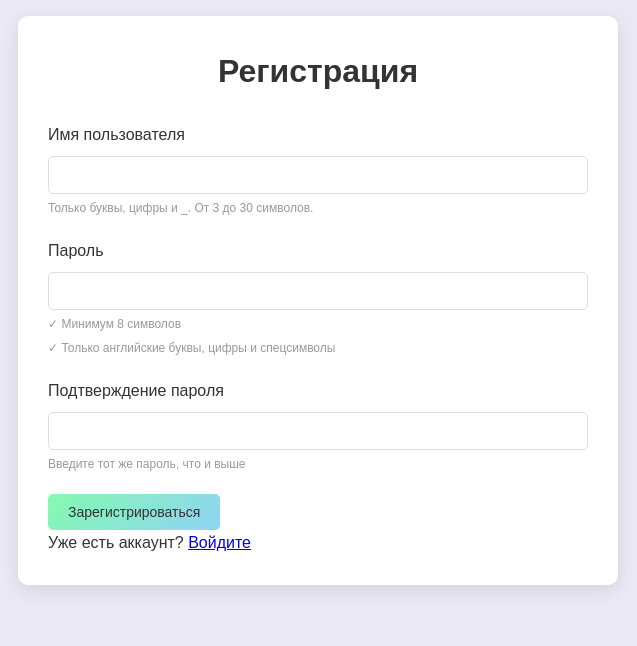
Test: RegisterPage › показывает ошибку при несовпадающих паролях
The width and height of the screenshot is (637, 646).
Type "testuser" into the field with test id "username-input" at (318, 175), box [48, 156, 588, 194]
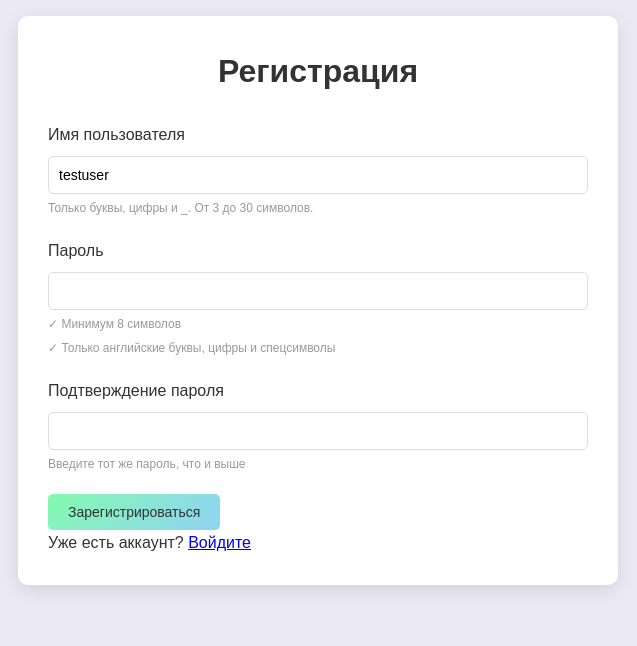
Type "Test123!" into the password field with test id "password1-input" at (318, 291), box [48, 272, 588, 310]
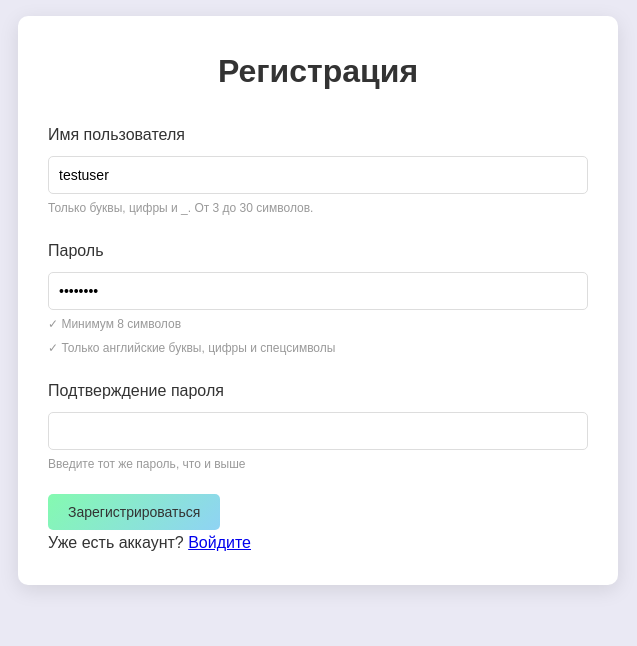
Type "Test456!" into the password field with test id "password2-input" at (318, 430), box [48, 412, 588, 450]
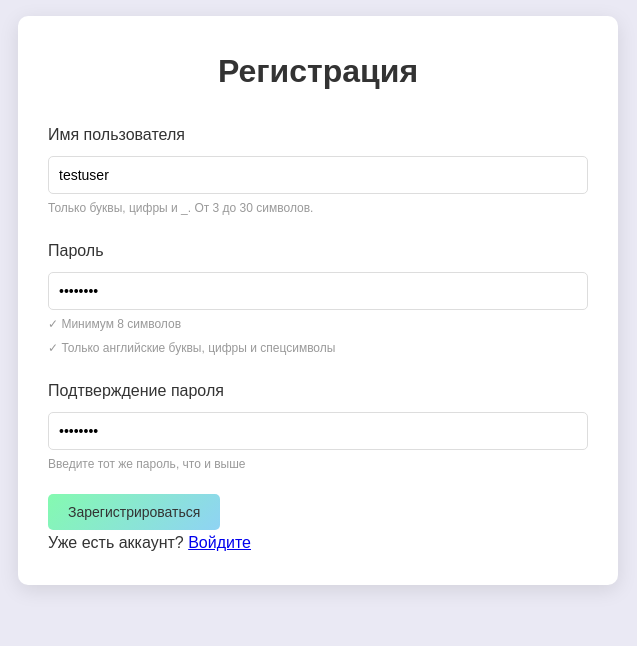
Click the button "Зарегистрироваться" at (134, 512), box [48, 494, 220, 530]
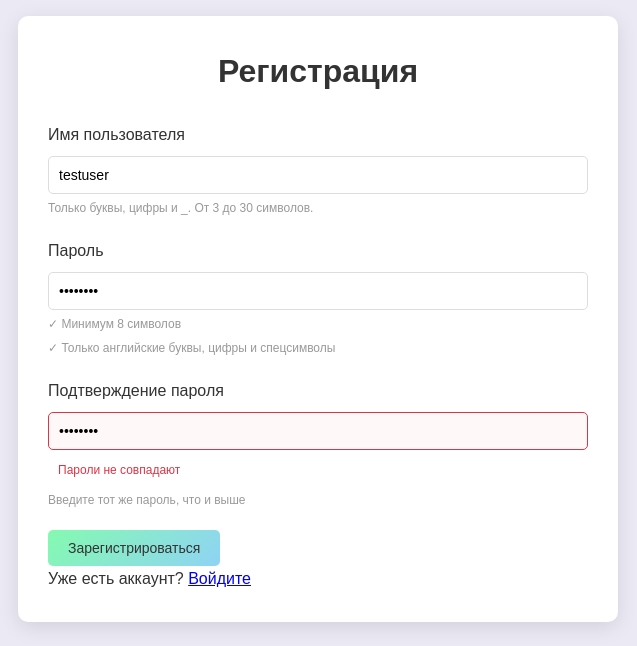
Expected: the text "Пароли не совпадают" is shown, [58, 462, 180, 476]
